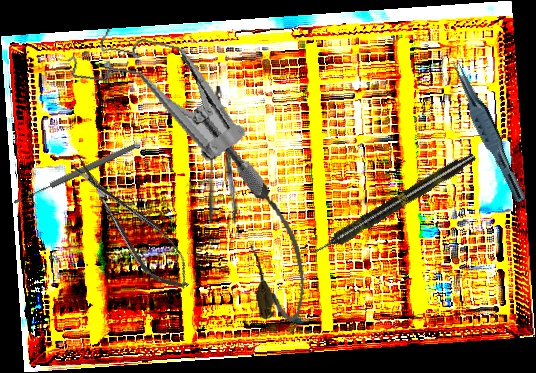Cannula: (237, 170, 312, 326)
Dressing Forceps: (205, 85, 246, 225)
Handpiece: (307, 149, 479, 261)
Micro Scissor: (64, 146, 200, 302)
Speculum: (47, 16, 291, 200)
Surgical Spoon: (12, 142, 137, 206)
Tissue Forceps: (442, 57, 535, 204)
